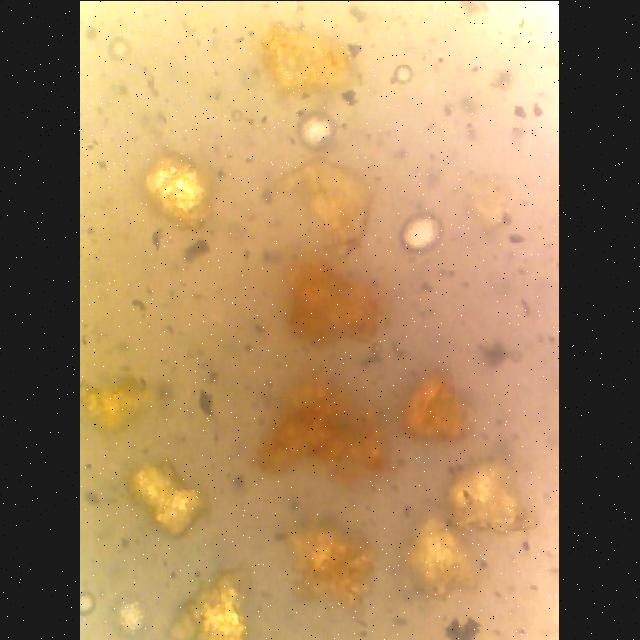Fragment: (243, 362, 409, 506), (268, 520, 384, 636), (271, 250, 393, 358), (268, 158, 387, 254), (384, 506, 496, 606), (250, 20, 366, 104), (436, 452, 542, 538), (120, 446, 212, 542), (142, 146, 232, 244), (164, 562, 256, 640), (402, 359, 476, 449), (80, 370, 156, 438), (446, 614, 486, 640)
microbeads: (399, 208, 449, 258), (112, 590, 158, 640), (295, 107, 341, 153), (393, 61, 415, 85), (81, 591, 99, 615)
